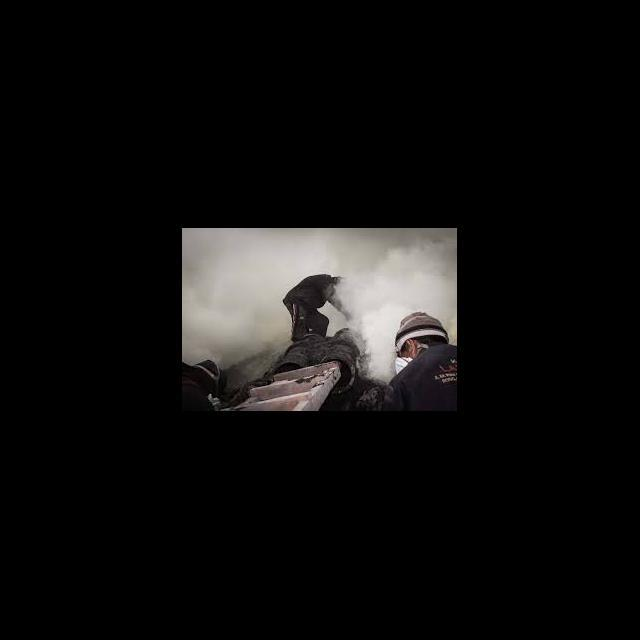Smoke: (182, 228, 456, 346)
